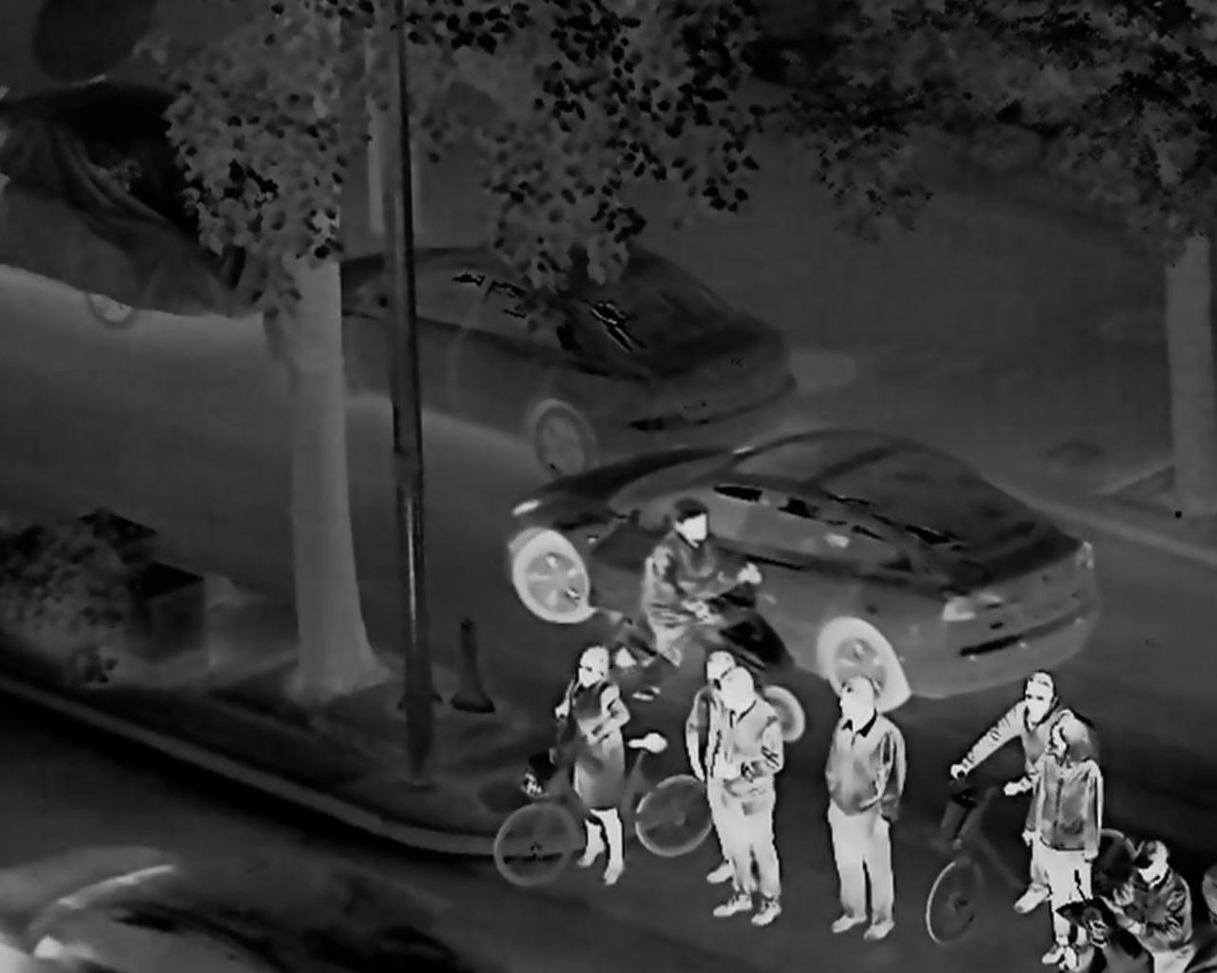person: (947, 671, 1079, 919), (817, 681, 907, 943), (709, 664, 787, 926), (641, 500, 758, 670), (683, 651, 763, 892), (555, 646, 631, 884), (1031, 720, 1102, 972), (1102, 838, 1193, 973)
